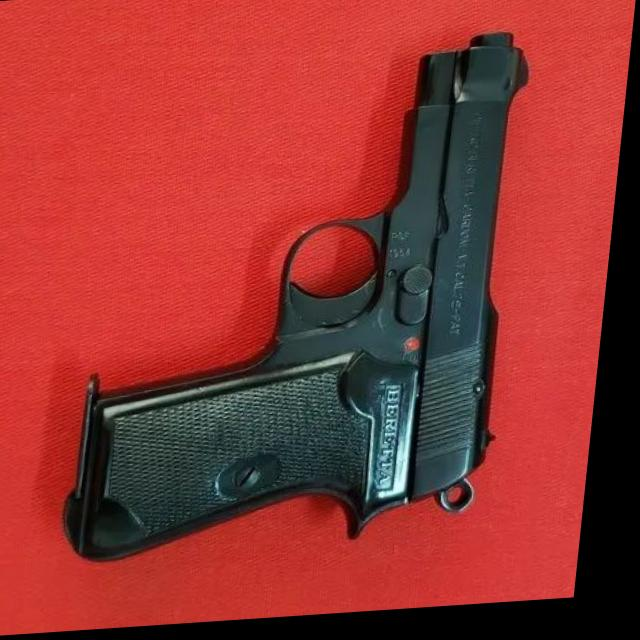handgun: (79, 36, 539, 568)
